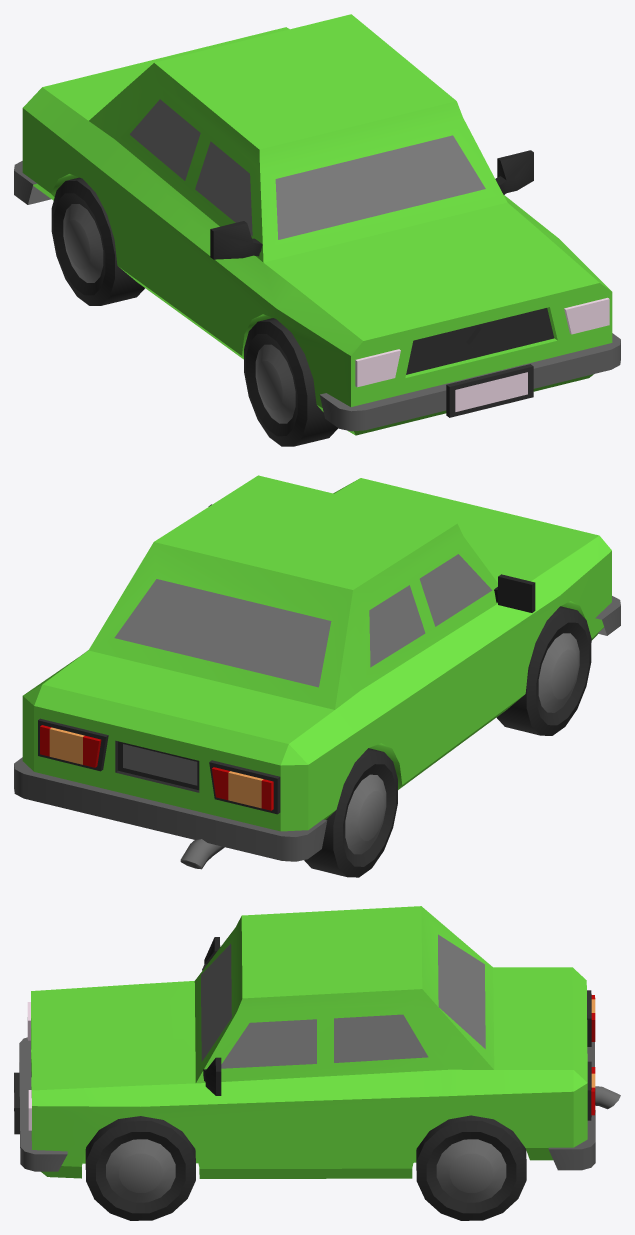
The model's file is car .fbx.
3 renders of one model, top to bottom at view 1: azimuth 30°, elevation 25°; view 2: azimuth 150°, elevation 25°; view 3: azimuth 270°, elevation 25°, orthographic. The views are drawn at different scales.
Parts seen in each view (by area): view 1: body, body.001, tyre.035, body.002; view 2: body, body.001, tyre.035, body.002; view 3: body, body.001, tyre.035.
Part boxes in pixels (x1=…): body: x1=22, y1=14, x2=612, y2=435; body.001: x1=14, y1=99, x2=620, y2=431; tyre.035: x1=51, y1=177, x2=338, y2=446; body.002: x1=355, y1=297, x2=609, y2=387; body: x1=22, y1=475, x2=611, y2=831; body.001: x1=14, y1=504, x2=620, y2=869; tyre.035: x1=304, y1=606, x2=591, y2=877; body.002: x1=115, y1=740, x2=199, y2=792; body: x1=31, y1=906, x2=587, y2=1178; body.001: x1=14, y1=934, x2=620, y2=1171; tyre.035: x1=85, y1=1115, x2=526, y2=1220.
Bounding box in the file's own units: 2.27 × 1.68 × 4.31.
Materials: 2 (1 with a texture image).
